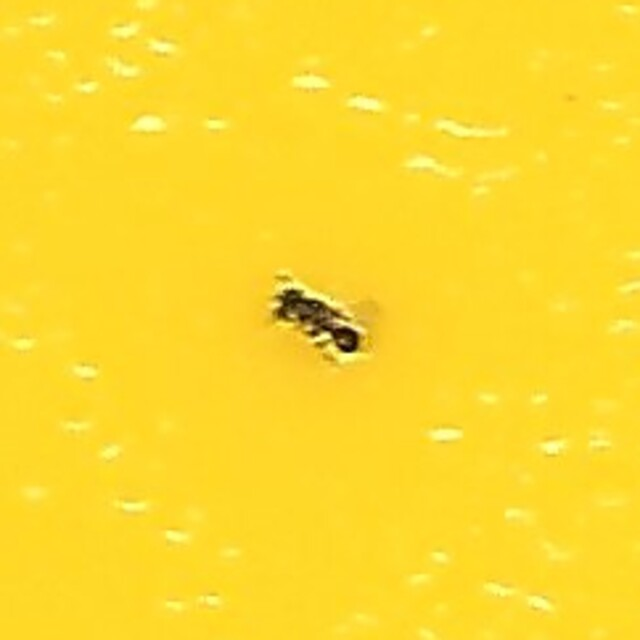Hymenoptera: (264, 274, 376, 366)
